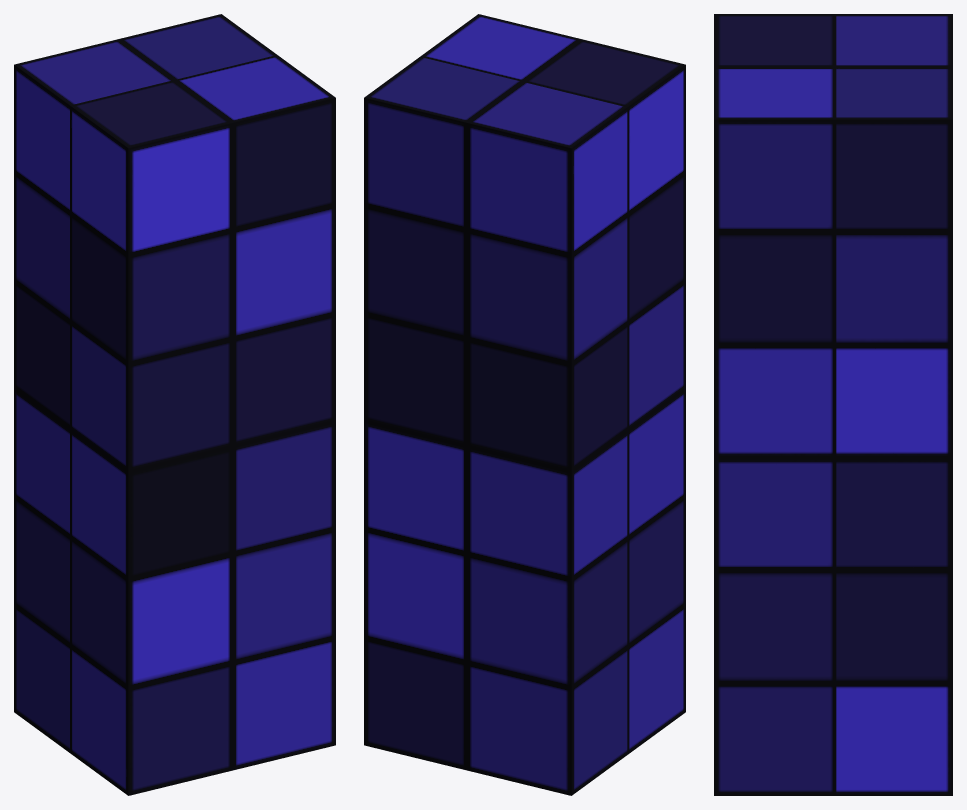
Rendered from c_brick_pillar.glb.
3 renders of one model, left to right at view 1: azimuth 30°, elevation 25°; view 2: azimuth 150°, elevation 25°; view 3: azimuth 270°, elevation 25°, orthographic. The views are drawn at different scales.
Parts seen in each view (by area): view 1: C_BricksPillar; view 2: C_BricksPillar; view 3: C_BricksPillar.
Part boxes in pixels (x1,y1,x2,y2): C_BricksPillar: (14,14,335,795); C_BricksPillar: (364,14,685,795); C_BricksPillar: (714,14,952,795).
Size of the model in its own units: 0.6705 by 2 by 0.6404.
Materials: 1 (1 with a texture image).
